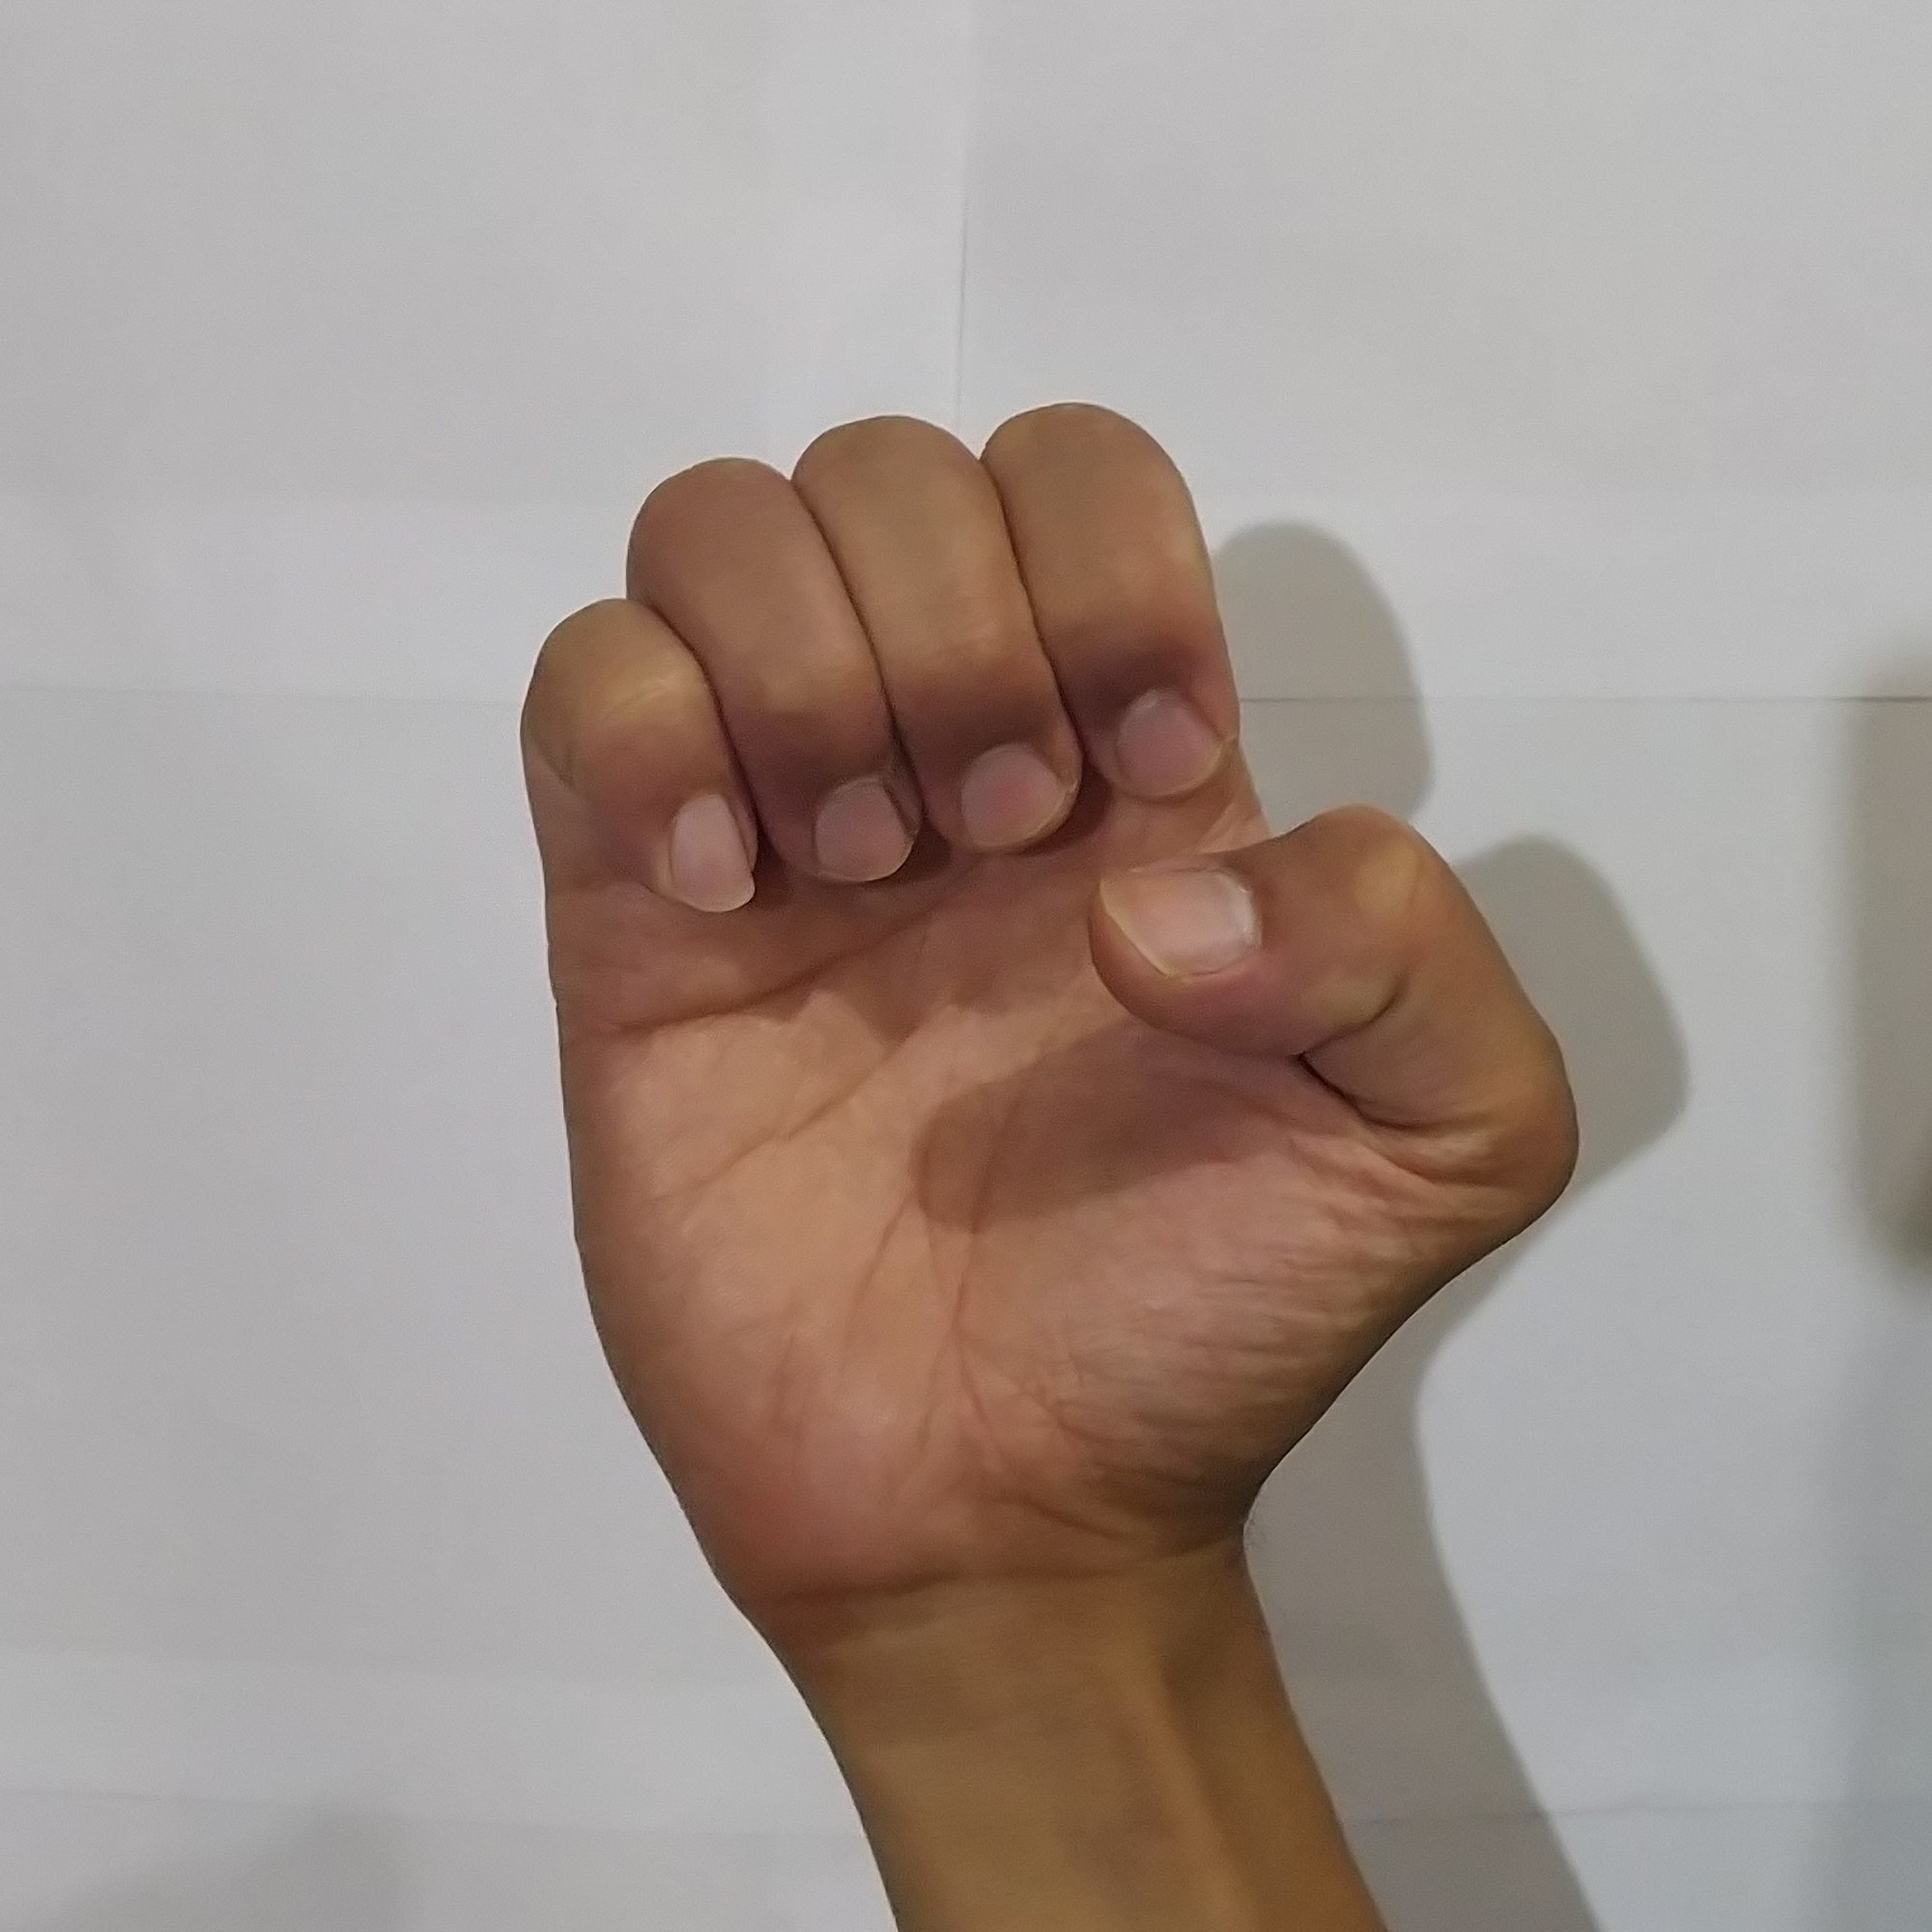E: (488, 384, 1598, 1546)
